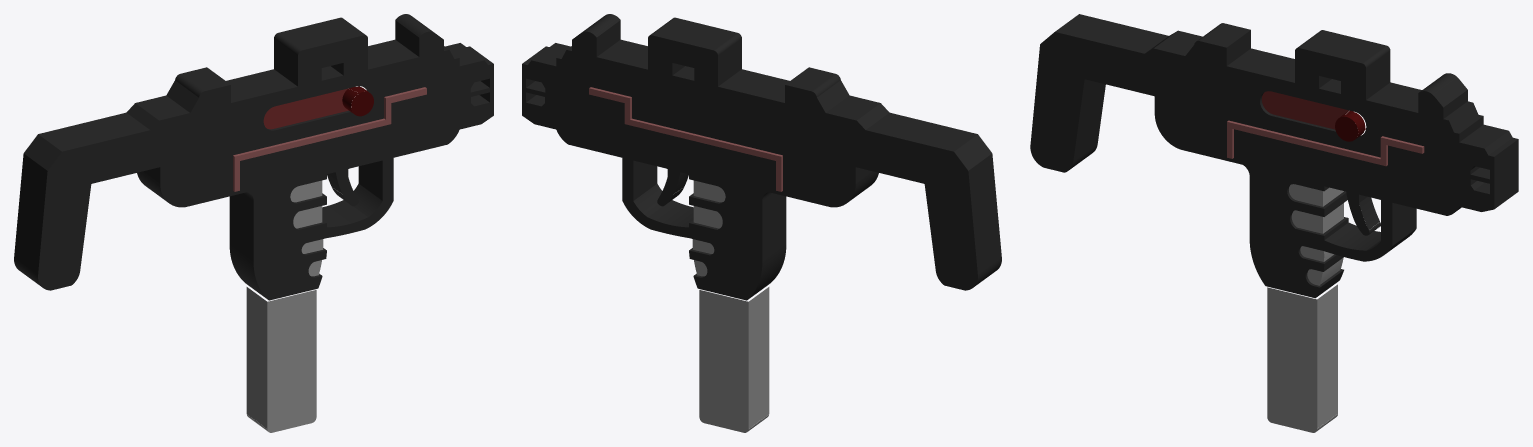
File: smg.gltf.gltf
3 renders of one model, left to right at view 1: azimuth 30°, elevation 25°; view 2: azimuth 150°, elevation 25°; view 3: azimuth 330°, elevation 25°, orthographic.
Parts seen in each view (by area): view 1: root.001, root.000, root.004, root.002; view 2: root.001, root.000, root.002; view 3: root.001, root.000, root.004, root.002.
Part boxes in pixels (x1,y1,x2,y2): root.001: (14, 14, 493, 300); root.000: (246, 287, 316, 432); root.004: (263, 86, 373, 129); root.002: (327, 174, 358, 206); root.001: (522, 14, 1001, 300); root.000: (699, 287, 769, 432); root.002: (657, 174, 688, 206); root.001: (1030, 14, 1518, 298); root.000: (1267, 284, 1337, 432); root.004: (1261, 91, 1365, 141); root.002: (1347, 197, 1380, 235).
Bounding box in the file's own units: 1.69 × 1.33 × 0.209.
